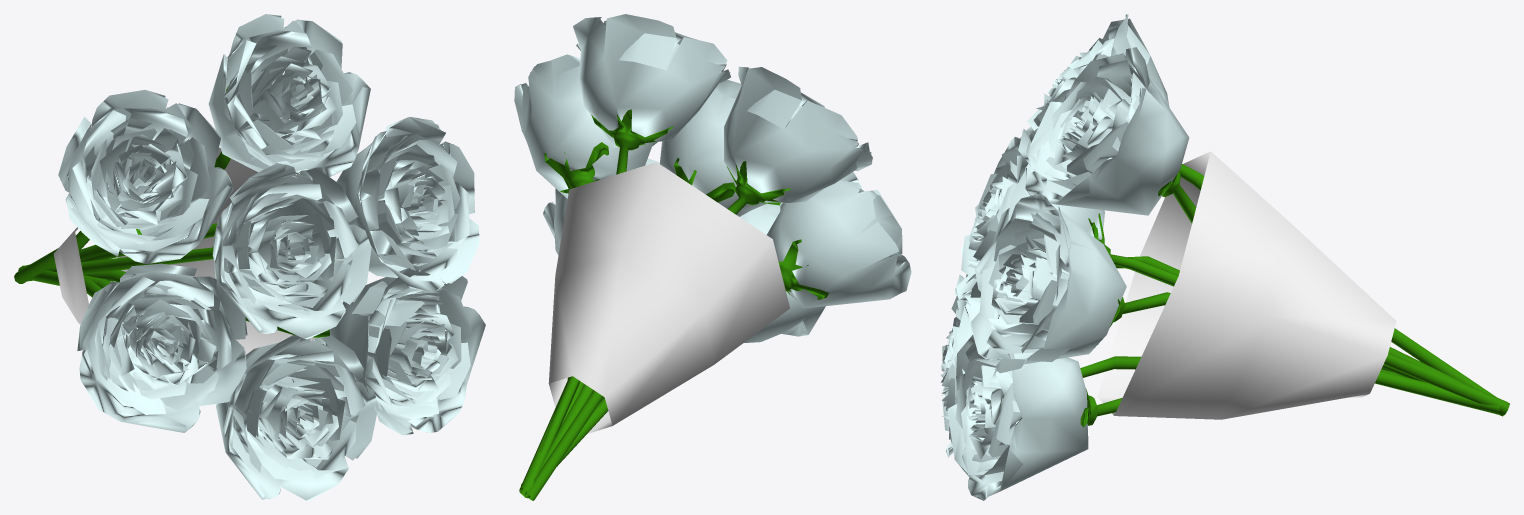
The model's file is WorldItem_RoseBouquet.fbx.
3 views of the same model, side by side, from view 1: azimuth 30°, elevation 25°; view 2: azimuth 150°, elevation 25°; view 3: azimuth 270°, elevation 25° (orthographic). The views are drawn at different scales.
Parts seen in each view (by area): view 1: Cylinder; view 2: Cylinder; view 3: Cylinder.
Boxes of the visible parts, x1,y1,x2,y2 form: Cylinder: (14,14,485,500); Cylinder: (514,14,911,500); Cylinder: (940,14,1509,500).
Size of the model in its own units: 0.2796 by 0.263 by 0.3254.
